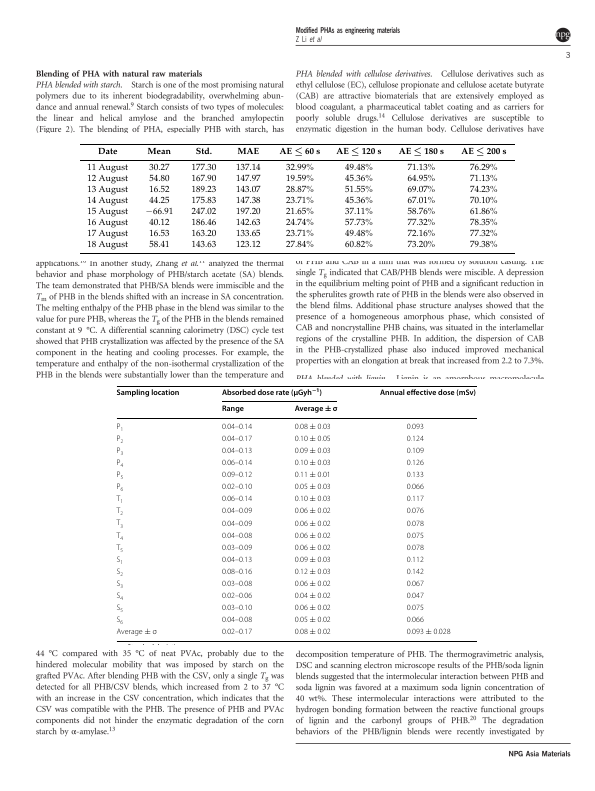borderless: (115, 384, 477, 641), (79, 142, 515, 253)
cell: (221, 387, 323, 398), (379, 388, 477, 398), (116, 388, 180, 398), (335, 147, 382, 157), (397, 147, 444, 157), (460, 147, 507, 157), (86, 163, 128, 174), (86, 174, 128, 185), (86, 185, 128, 196), (86, 196, 128, 207), (86, 207, 128, 218), (86, 218, 128, 229), (86, 229, 128, 240), (86, 240, 128, 251), (294, 404, 338, 414), (278, 147, 321, 157), (406, 628, 452, 637), (115, 628, 158, 637), (294, 422, 332, 432), (294, 434, 332, 444), (294, 543, 332, 553), (294, 555, 332, 565), (294, 447, 332, 456), (294, 459, 332, 468), (294, 471, 332, 480), (294, 483, 332, 492), (294, 495, 332, 504), (294, 507, 332, 516), (294, 519, 332, 528), (294, 531, 332, 540), (294, 568, 332, 577), (294, 580, 332, 589), (294, 592, 332, 601), (294, 604, 332, 613), (294, 616, 332, 625), (294, 628, 332, 637), (343, 163, 373, 174), (406, 163, 436, 174), (468, 163, 498, 174), (343, 174, 373, 185), (406, 174, 436, 185), (468, 174, 498, 185), (343, 185, 373, 196), (406, 185, 436, 196), (468, 185, 498, 196), (343, 196, 373, 207), (406, 196, 436, 207), (468, 196, 498, 207), (144, 207, 174, 218), (343, 207, 373, 218), (406, 207, 436, 218), (468, 207, 498, 218), (343, 218, 373, 229), (406, 218, 436, 229), (468, 218, 498, 229), (343, 229, 373, 240), (406, 229, 436, 240), (468, 229, 498, 240), (343, 240, 373, 251), (406, 240, 436, 251), (468, 240, 498, 251), (221, 422, 253, 432), (221, 434, 253, 444), (221, 543, 253, 553), (221, 555, 253, 565), (285, 163, 314, 174), (285, 174, 314, 185), (285, 185, 314, 196), (285, 196, 314, 207), (285, 207, 314, 218), (285, 218, 314, 229), (285, 229, 314, 240), (285, 240, 314, 251), (190, 163, 217, 174), (234, 163, 261, 174), (190, 174, 217, 185), (234, 174, 261, 185), (190, 185, 217, 196), (234, 185, 261, 196), (190, 196, 217, 207), (234, 196, 261, 207), (190, 207, 217, 218), (234, 207, 261, 218), (190, 218, 217, 229), (234, 218, 261, 229), (190, 229, 217, 240), (234, 229, 261, 240), (190, 240, 217, 251), (234, 240, 261, 251), (221, 447, 253, 456), (221, 459, 253, 468), (221, 471, 253, 480), (221, 483, 253, 492), (221, 495, 253, 504), (221, 507, 253, 516), (221, 519, 253, 528), (221, 531, 253, 540), (221, 568, 253, 577), (221, 580, 253, 589), (221, 592, 253, 601), (221, 604, 253, 613), (221, 616, 253, 625), (221, 628, 253, 637), (148, 163, 170, 174), (148, 174, 170, 185), (148, 185, 170, 196), (148, 196, 170, 207), (148, 218, 170, 229), (148, 229, 170, 240), (148, 240, 170, 251), (221, 404, 245, 414), (146, 147, 172, 155), (406, 422, 425, 432), (406, 434, 425, 444), (406, 543, 425, 553), (406, 555, 425, 565), (236, 147, 259, 155), (96, 147, 118, 155), (406, 447, 425, 456), (406, 459, 425, 468), (406, 471, 425, 480), (406, 483, 425, 492), (406, 495, 425, 504), (406, 507, 425, 516), (406, 519, 425, 528), (406, 531, 425, 540), (406, 568, 425, 577), (406, 580, 425, 589), (406, 592, 425, 601), (406, 604, 425, 613), (406, 616, 425, 625), (194, 147, 212, 155), (115, 495, 124, 506), (115, 507, 124, 518), (115, 519, 124, 530), (115, 531, 124, 542), (115, 543, 124, 554), (115, 555, 124, 566), (115, 604, 124, 615), (115, 616, 124, 627), (115, 568, 124, 578), (115, 580, 124, 590), (115, 592, 124, 602), (116, 422, 124, 433), (116, 434, 124, 445), (116, 483, 124, 494), (116, 447, 124, 457), (116, 459, 124, 469), (116, 471, 124, 481)
